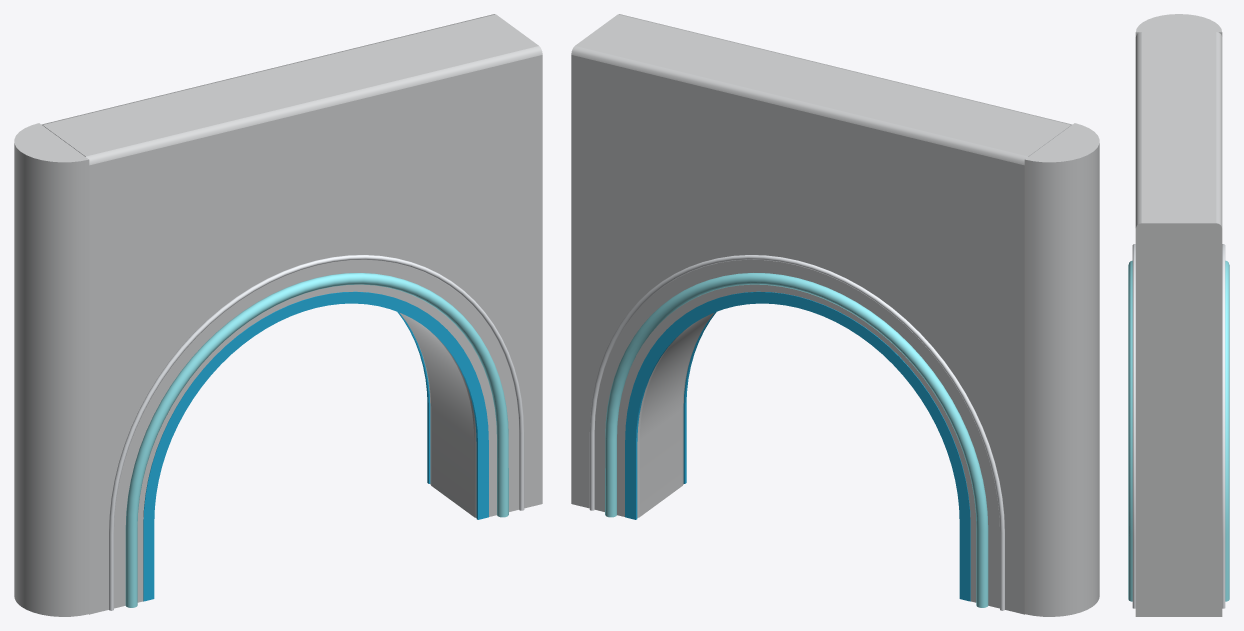
File: Arch_D03_RingLight.fbx
The picture shows the model from 3 angles, left to right: view 1: azimuth 30°, elevation 25°; view 2: azimuth 150°, elevation 25°; view 3: azimuth 270°, elevation 25°; orthographic projection. The views are drawn at different scales.
Visible parts, largest first — view 1: Arch_D03_RingLight; view 2: Arch_D03_RingLight; view 3: Arch_D03_RingLight.
Part boxes in pixels (x1,y1,x2,y2): Arch_D03_RingLight: (14,14,542,616); Arch_D03_RingLight: (571,14,1099,616); Arch_D03_RingLight: (1128,14,1229,616).
Bounding box in the file's own units: 2.29 × 2.01 × 0.468.
